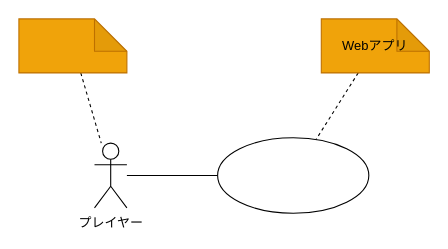
The diagram is 448 pixels wide and 249 high, and some of its shapes have lost their labels. The shapes that lost their labels are listed below. From the top down, each one's centre as x and y in pixels, then its label:
the point at 72,45: 一人で 黒白交互に打つ
the point at 293,175: リバーシ アプリケーション
